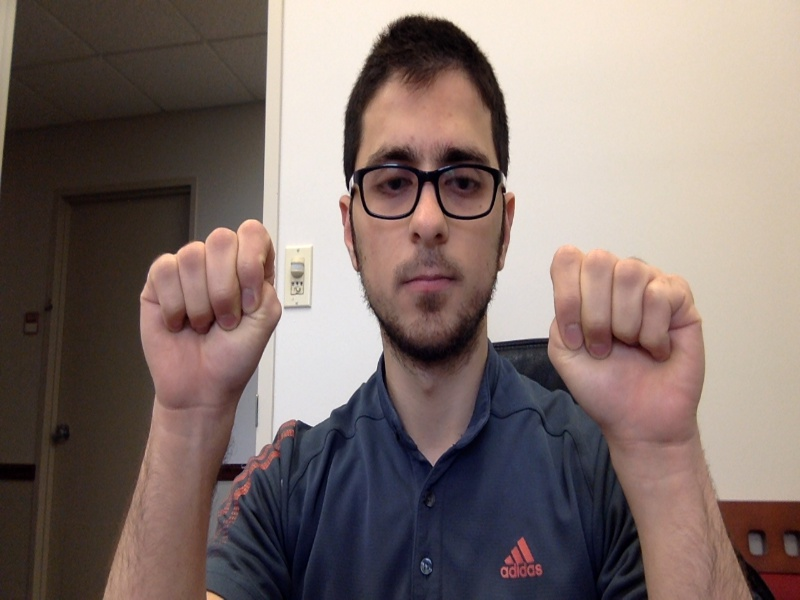0-hand: (547, 246, 706, 444), (138, 218, 282, 408)
